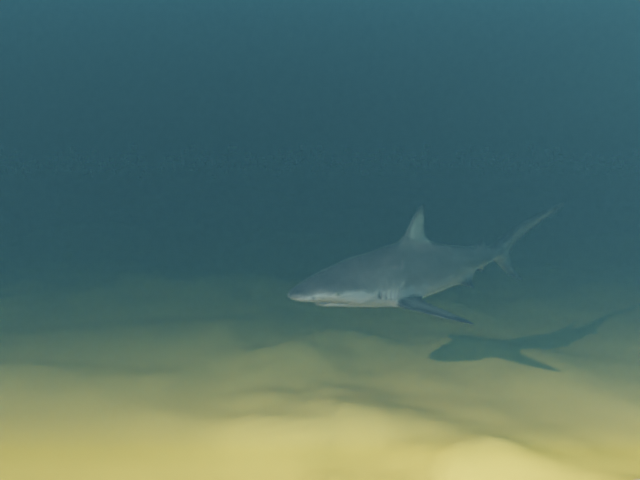Carribean Shark.001: (287, 202, 564, 324)
